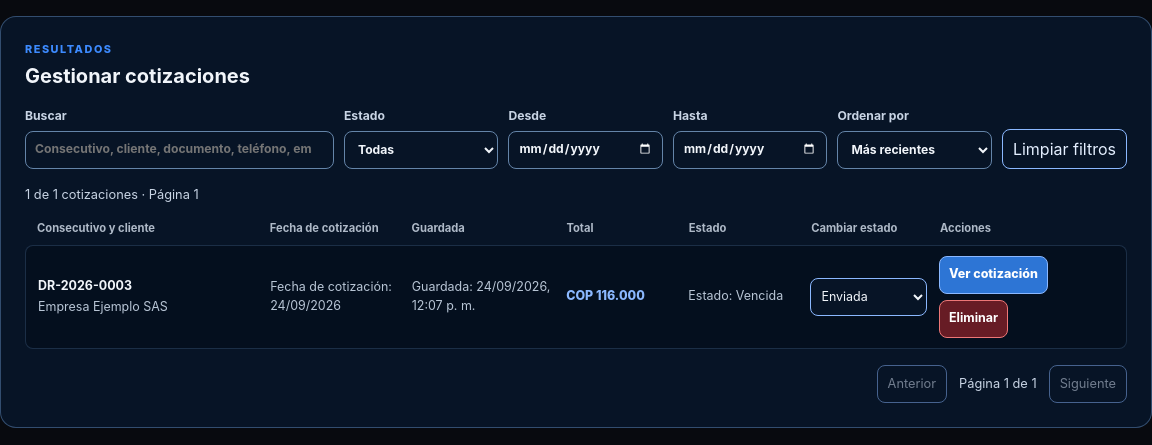
Test: QuotationHistory › changes status without replacing the commercial snapshot
The image size is (1152, 445).
Check: the dropdown labelled "Estado" is shown, box 344,130 -> 498,168
Select "Aceptada" in the dropdown named "Cambiar estado de DR-2026-0003" at [869, 296], box 810,278 -> 927,316
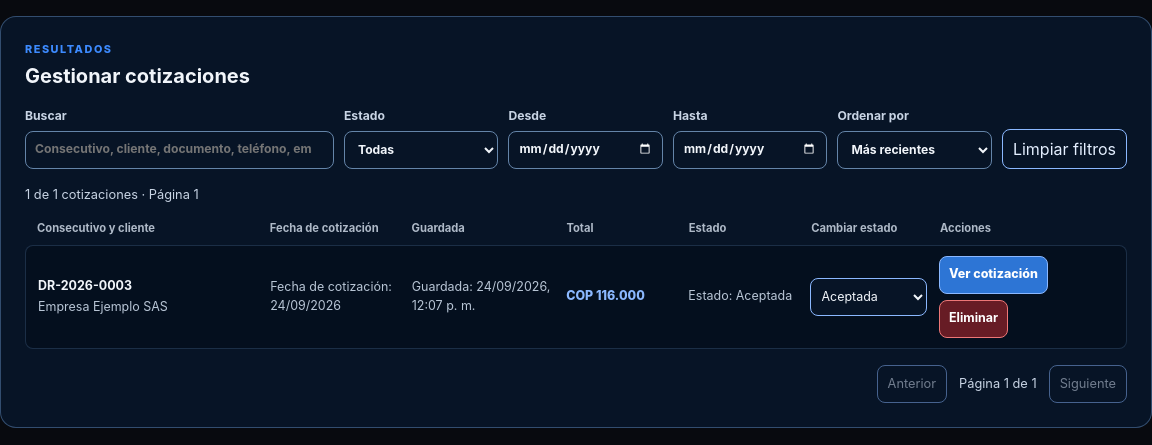
Check: the text "Empresa Ejemplo SAS" is shown, box 38,298 -> 168,314
Check: the text "Estado: Aceptada" is shown, box 688,287 -> 798,306
